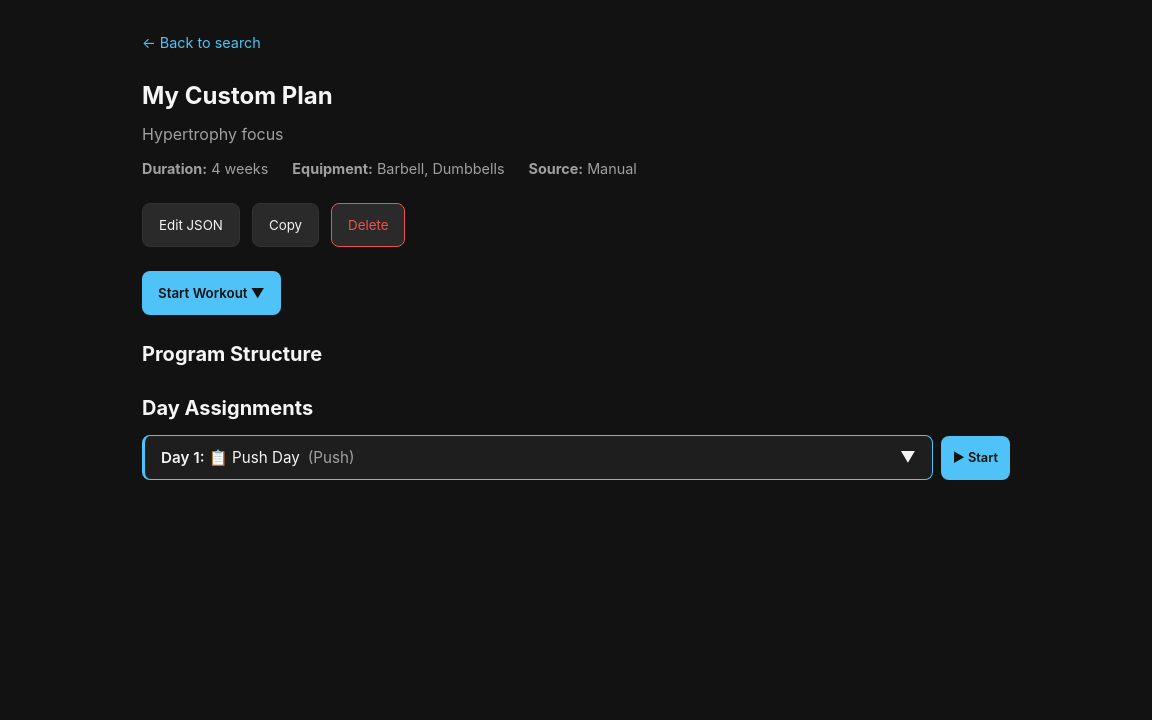
Test case: ProgramDetailPage — Copied Day Rendering › full snapshot structure rendering (Requirement 12.1) › renders sections with exercises in table format
Note: Expand the copied day block
What coordinates should you click on to do the following:
click the button "Day 1: 📋 Push Day(Push) ▼"
I would click on:
 (177, 458)
Its box is [142, 435, 933, 480].
(page scrolled)
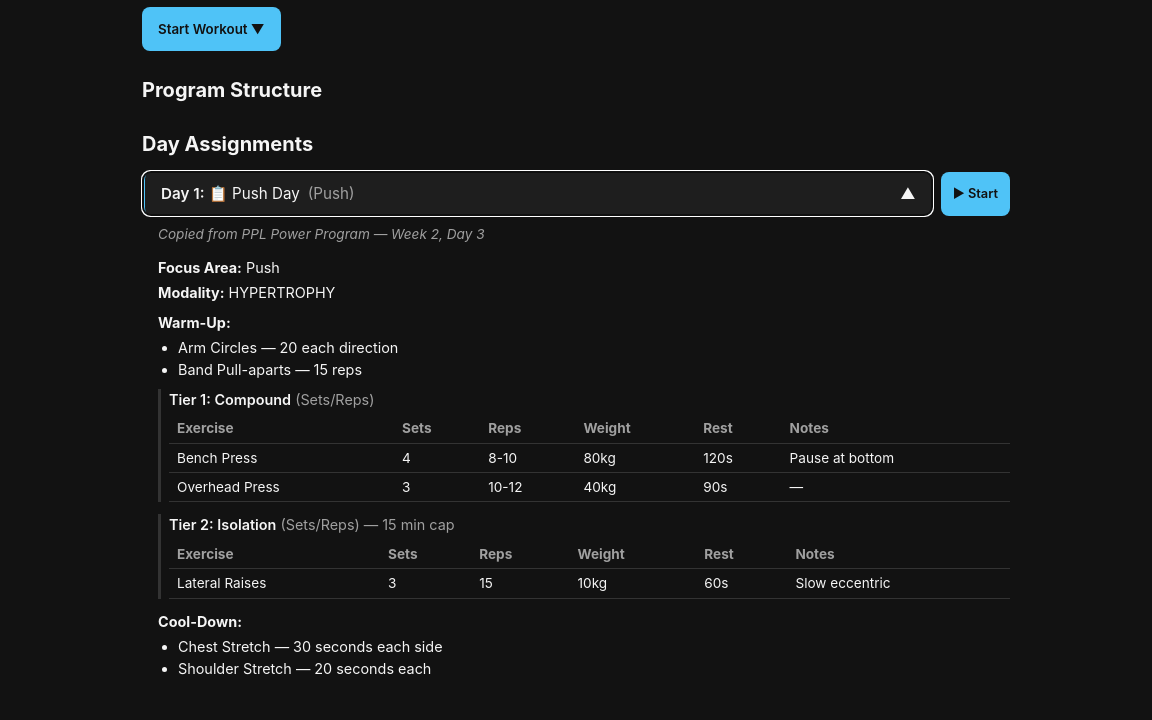
expect the text "Tier 1: Compound" is shown: met, box [169, 391, 291, 408]
expect the text "Tier 2: Isolation" is shown: met, box [169, 516, 276, 533]
expect the text "— 15 min cap" is shown: met, box [360, 516, 455, 533]
